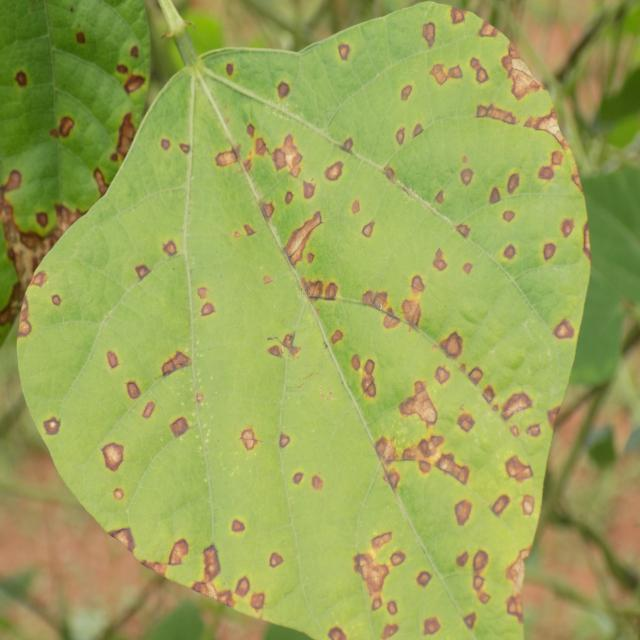Dolicos bean_cercospora leaf spot: (20, 0, 591, 640)
